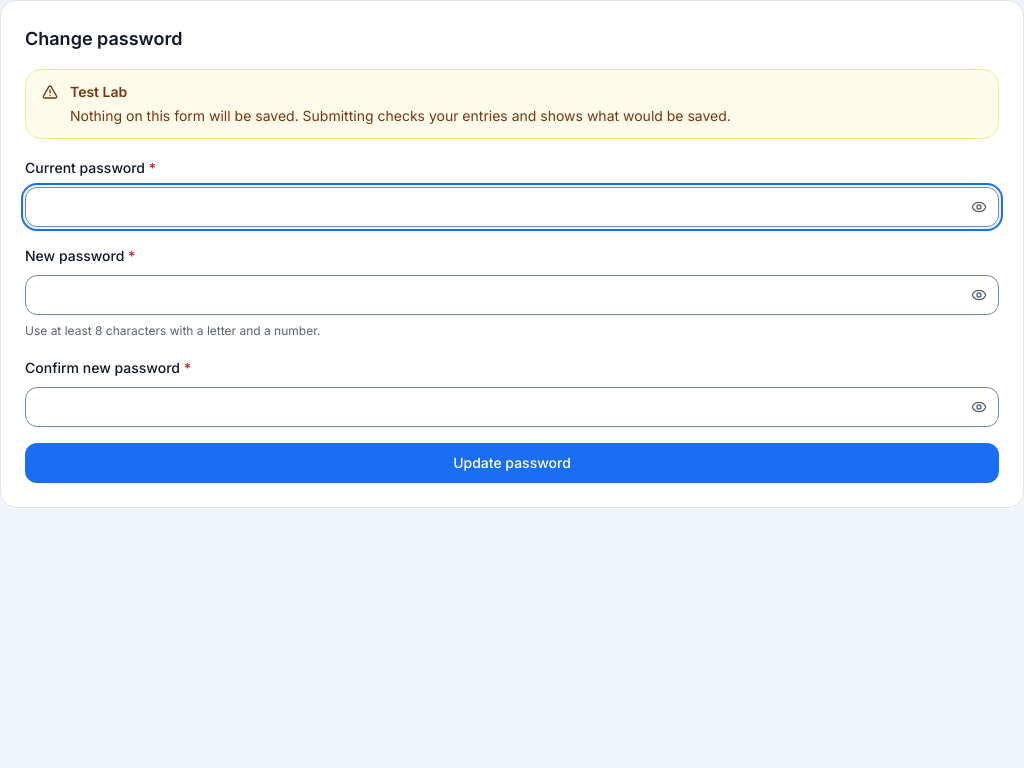
Test: change password — Test Lab dry run › opens a preview instead of toasting 'updated' on a dry-run success, and never renders the password
Type "OldPass1" into the password field labelled "Current password *" at (512, 207), box x1=25 y1=187 x2=999 y2=227
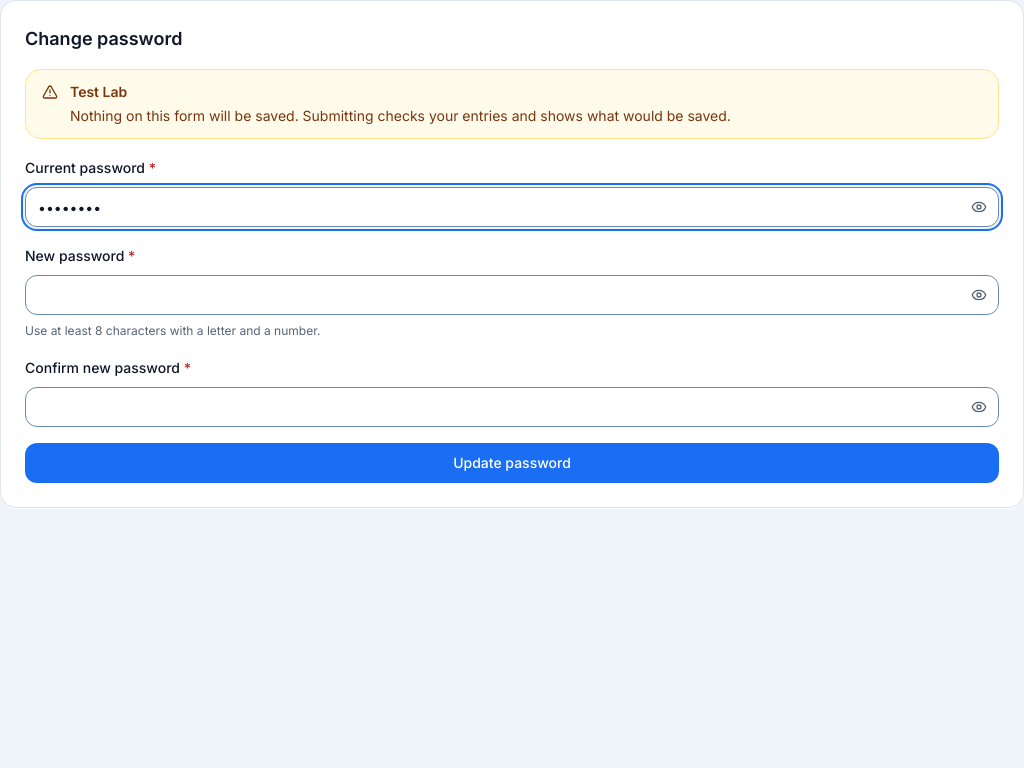
Type "NewPass123" into the password field labelled "New password *" at (512, 295), box x1=25 y1=275 x2=999 y2=315
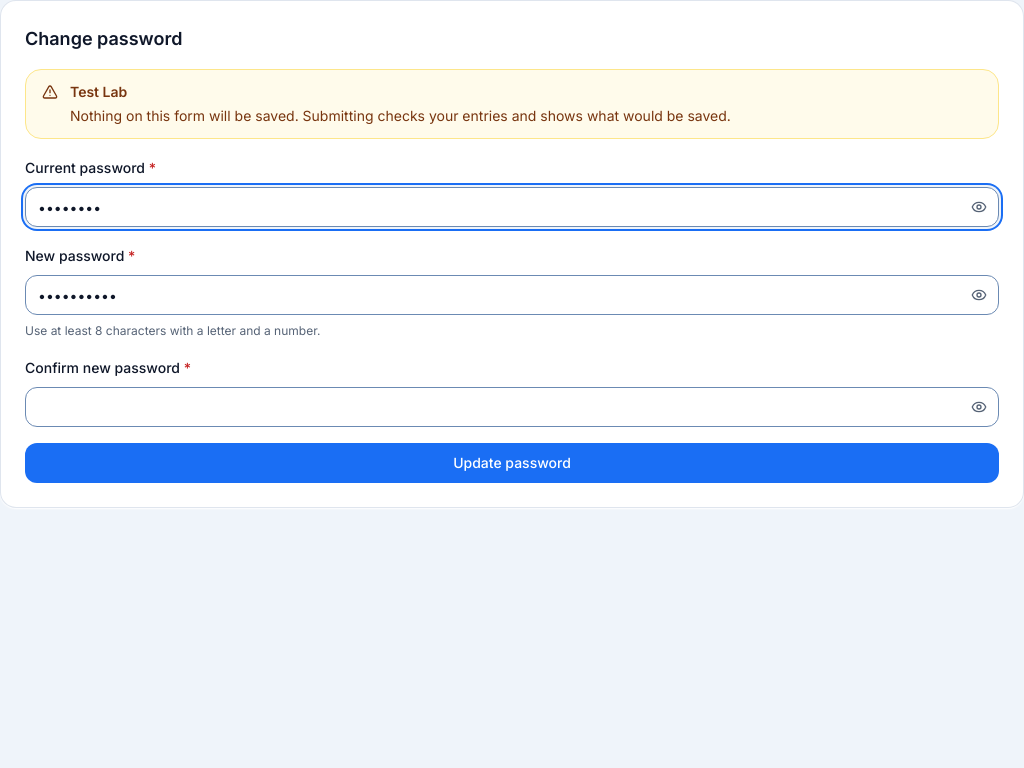
Type "NewPass123" into the password field labelled "Confirm new password *" at (512, 407), box x1=25 y1=387 x2=999 y2=427
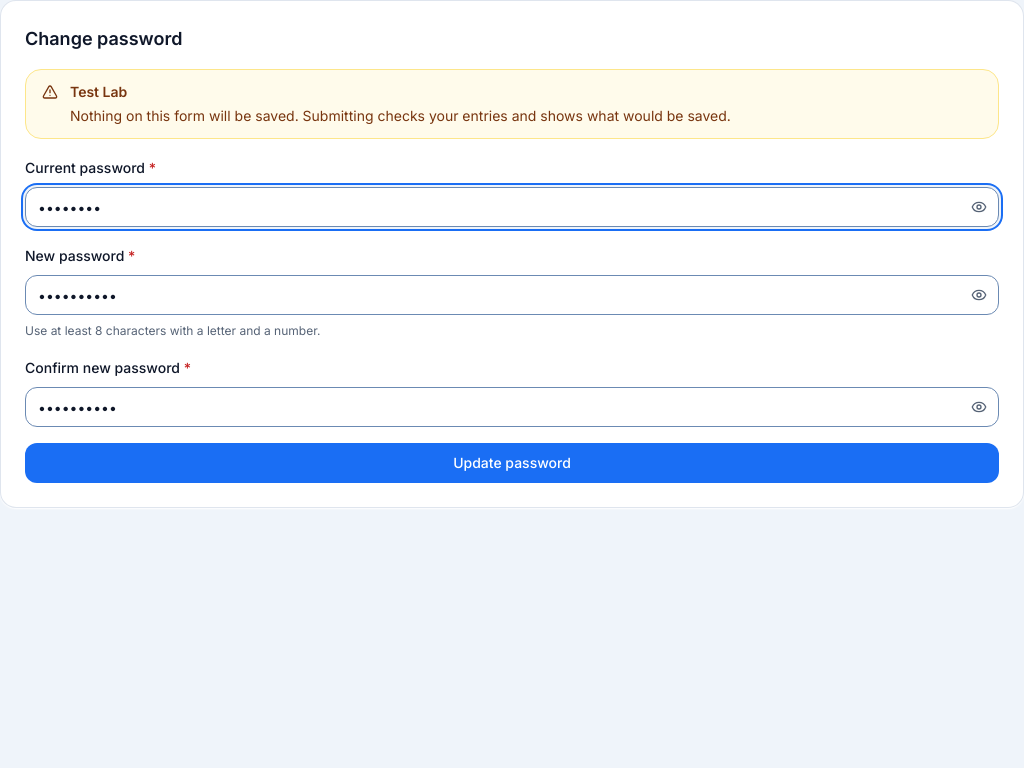
Click the button "Update password" at (512, 463), box x1=25 y1=443 x2=999 y2=483
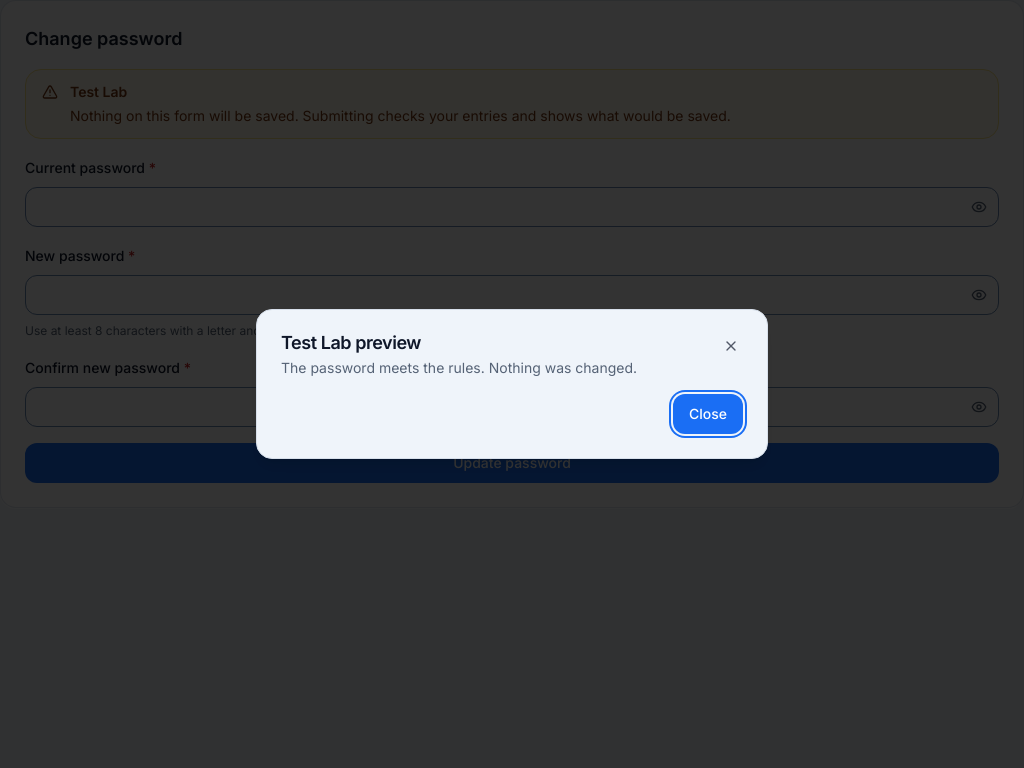
Check: the text "The password meets the rules. Nothing was changed." is shown, box x1=281 y1=359 x2=637 y2=376
